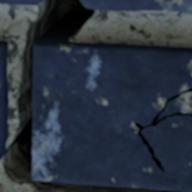brick: (33, 42, 191, 191), (0, 41, 7, 158)
broken_brick: (82, 0, 191, 12), (0, 0, 39, 5)
crack: (2, 0, 189, 191)
